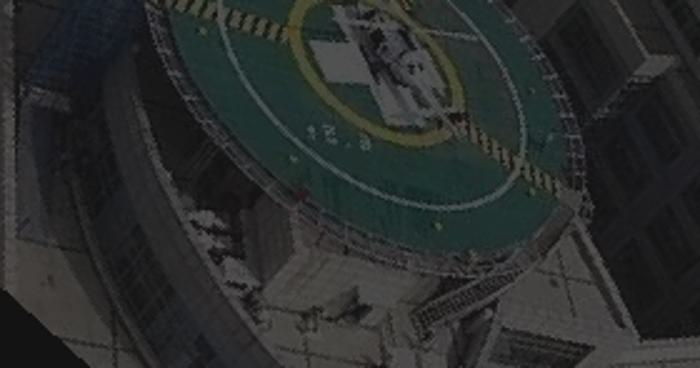Apron: (283, 1, 473, 158)
